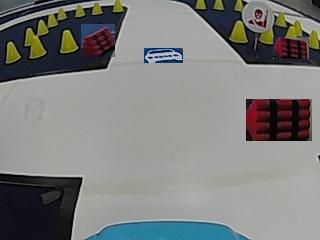evil: (242, 1, 274, 32)
